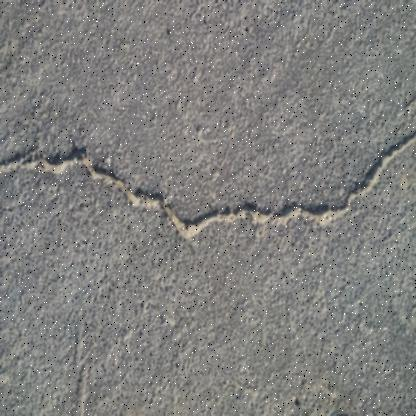Cracks: (0, 122, 415, 250)
